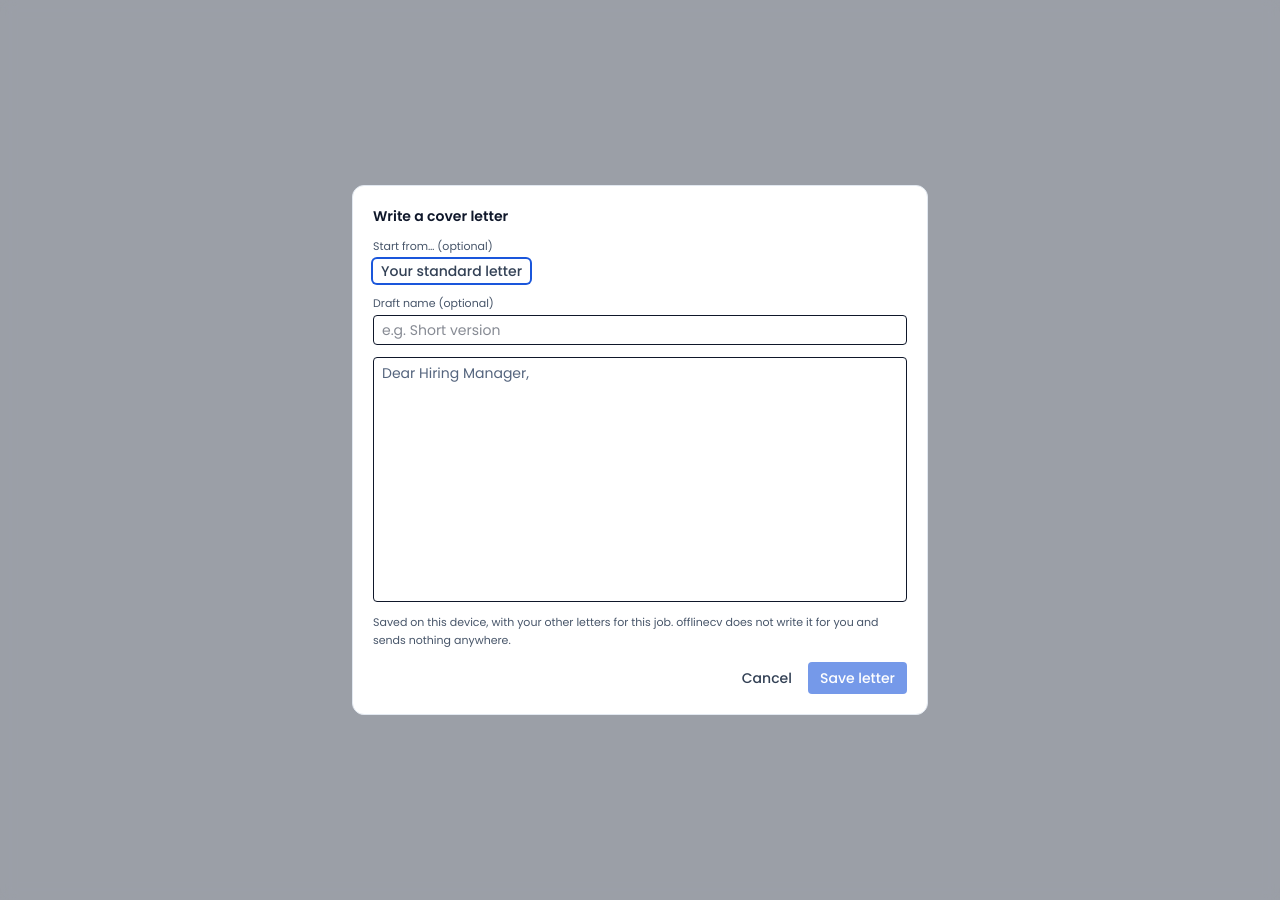
LetterEditorDialog scopes and start-from (#767) › says the copy is a copy, naming the source, once picked
Expected: the text "Started from" is not shown
Click the button "Your standard letter". click: (452, 271)
box: left=373, top=259, right=530, bottom=283
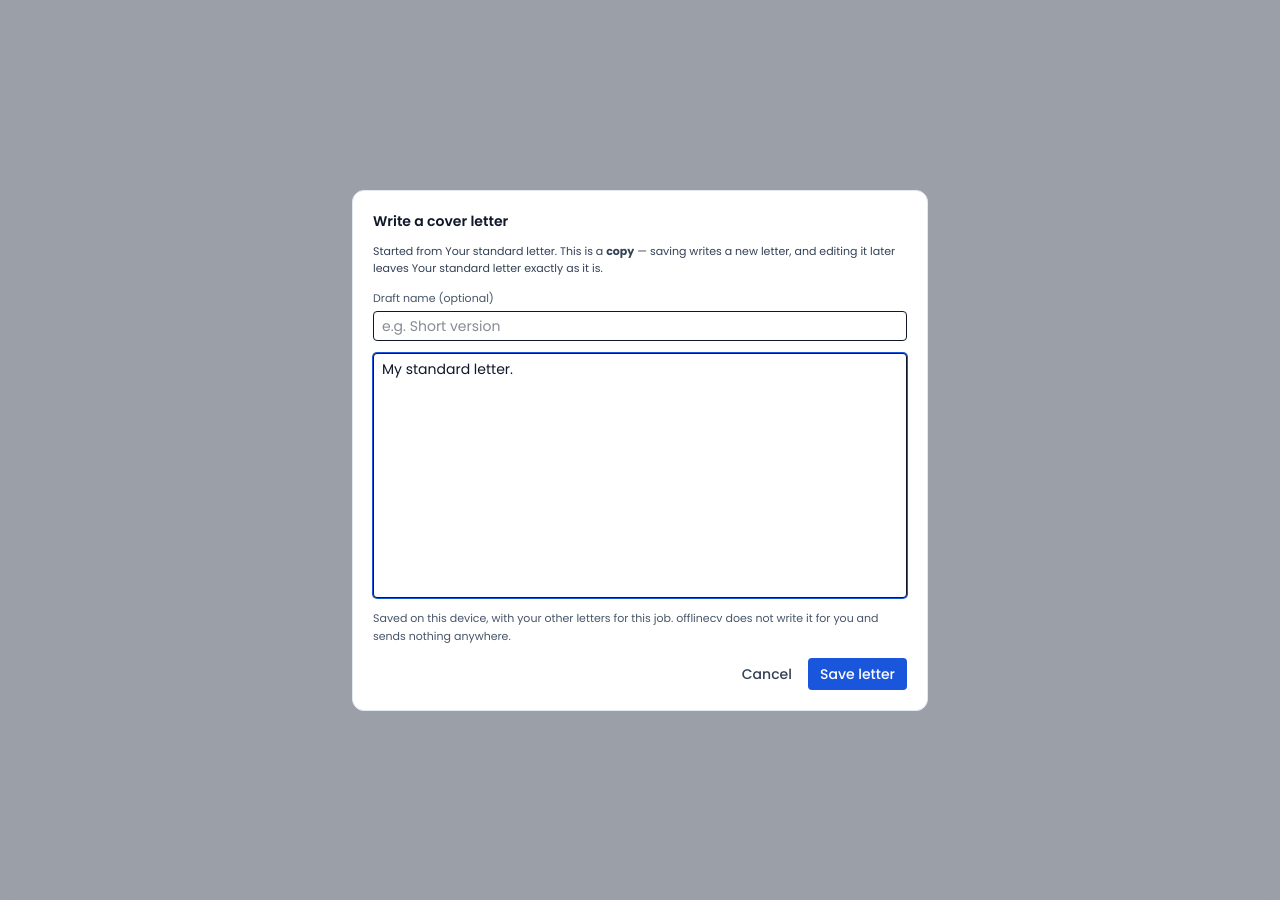
Now the text "Started from Your standard letter" is shown, box left=373, top=242, right=907, bottom=278
Now the text "copy" is shown, box left=606, top=242, right=634, bottom=258
